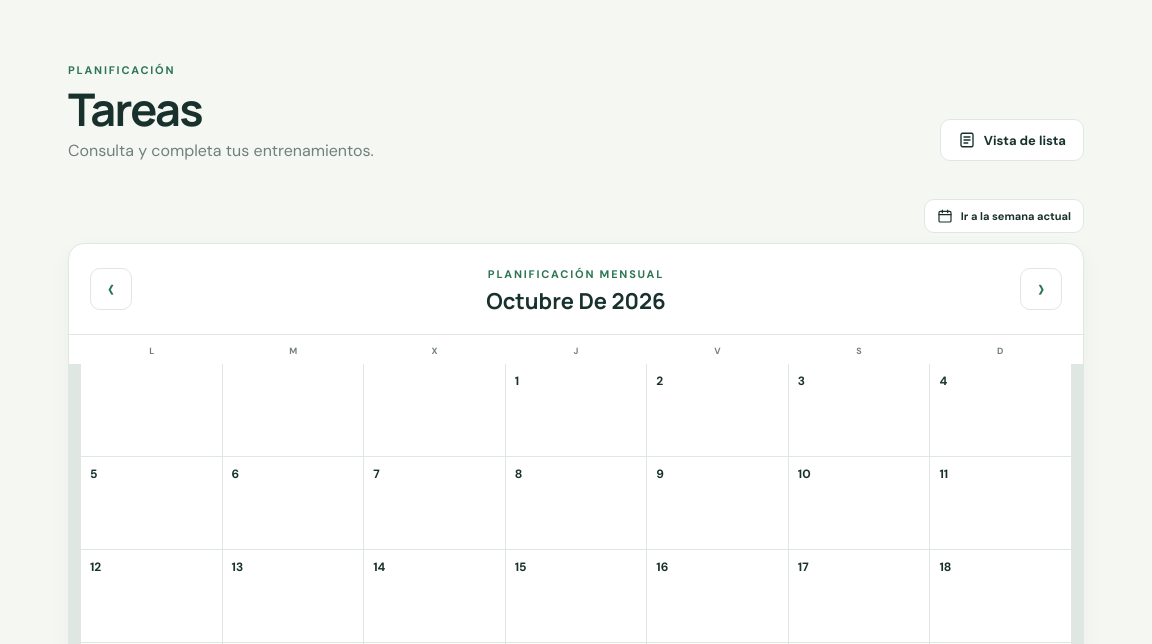
Test: TasksView › searches by task title, description or type
Click the button "Vista de lista" at (1012, 140), box top-left (940, 119), bottom-right (1084, 161)
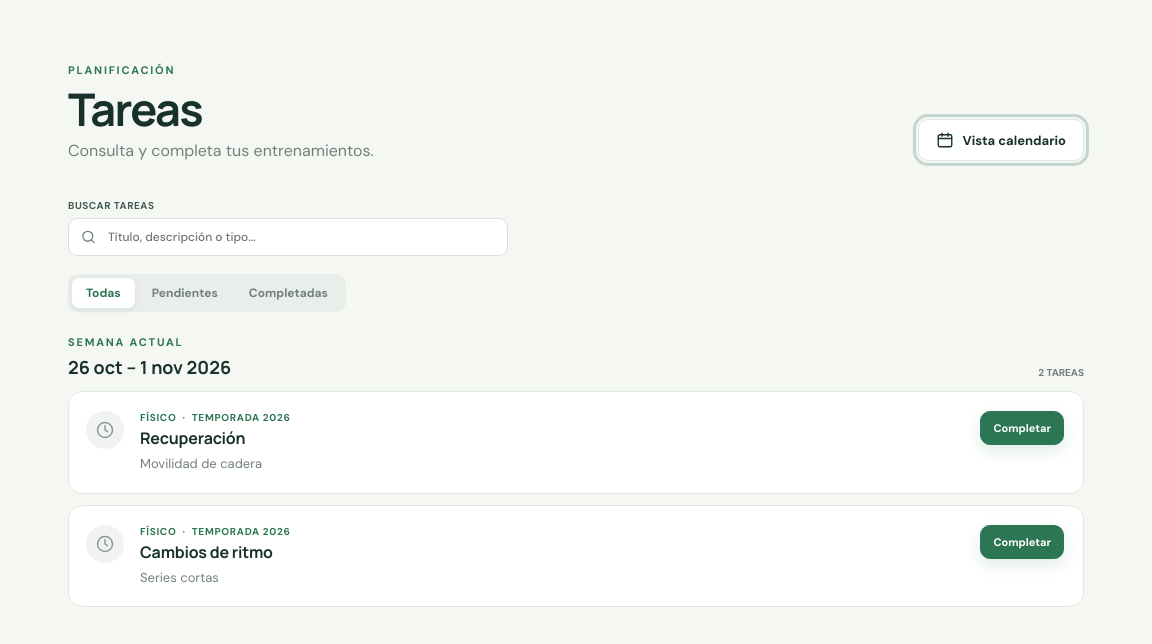
Type "cadera" into the search field labelled "Buscar tareas" at (288, 237), box top-left (68, 218), bottom-right (508, 256)
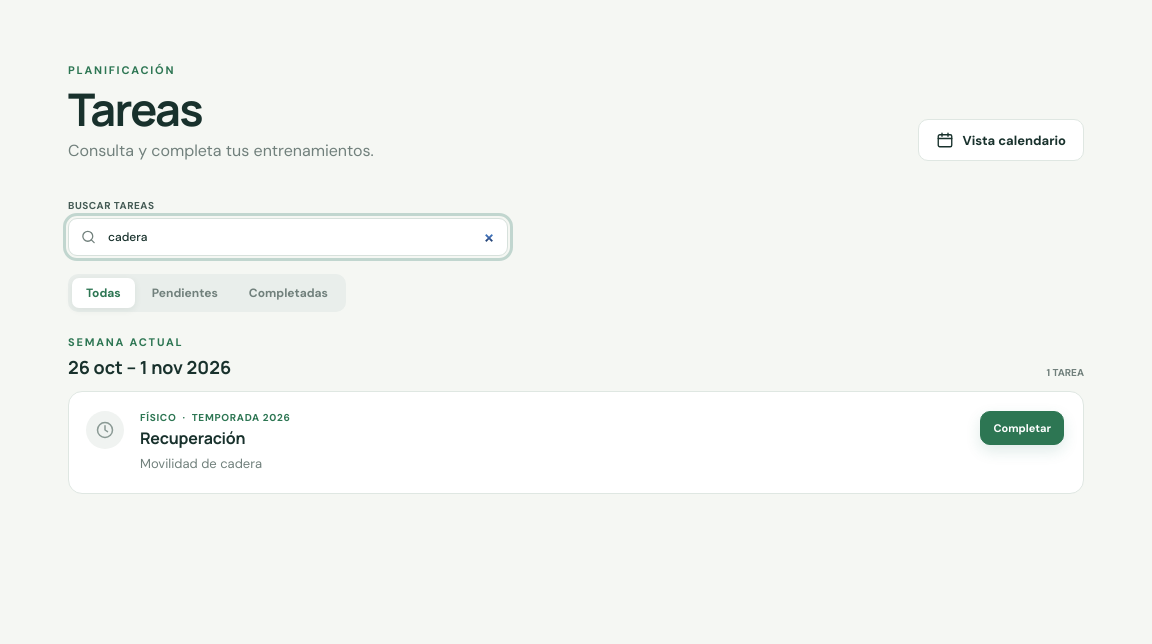
Expected: the heading "Recuperación" is shown, top-left (140, 427), bottom-right (245, 449)
Expected: the heading "Cambios de ritmo" is gone
